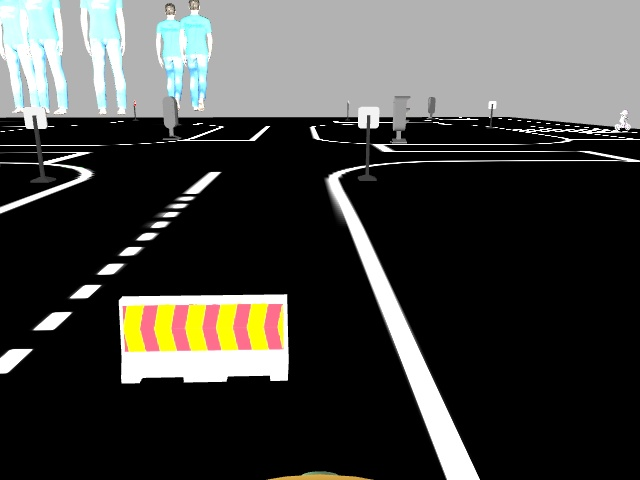ClosedRoadStand: (120, 297, 289, 378)
